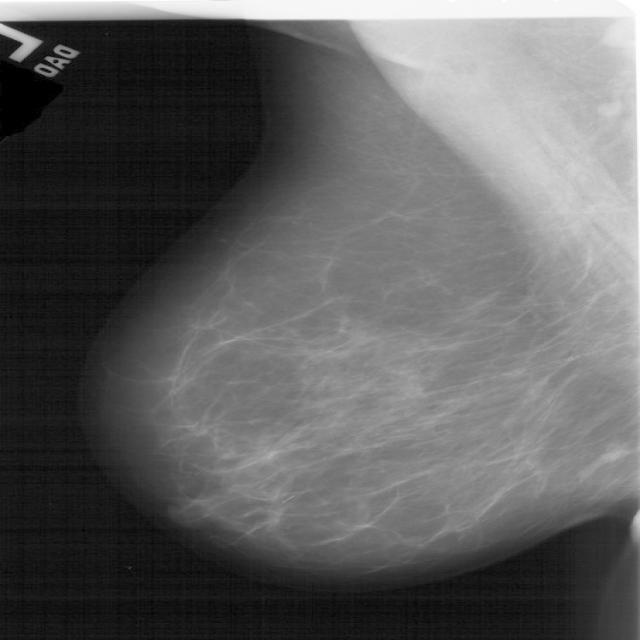tumour: (591, 448, 630, 465)
